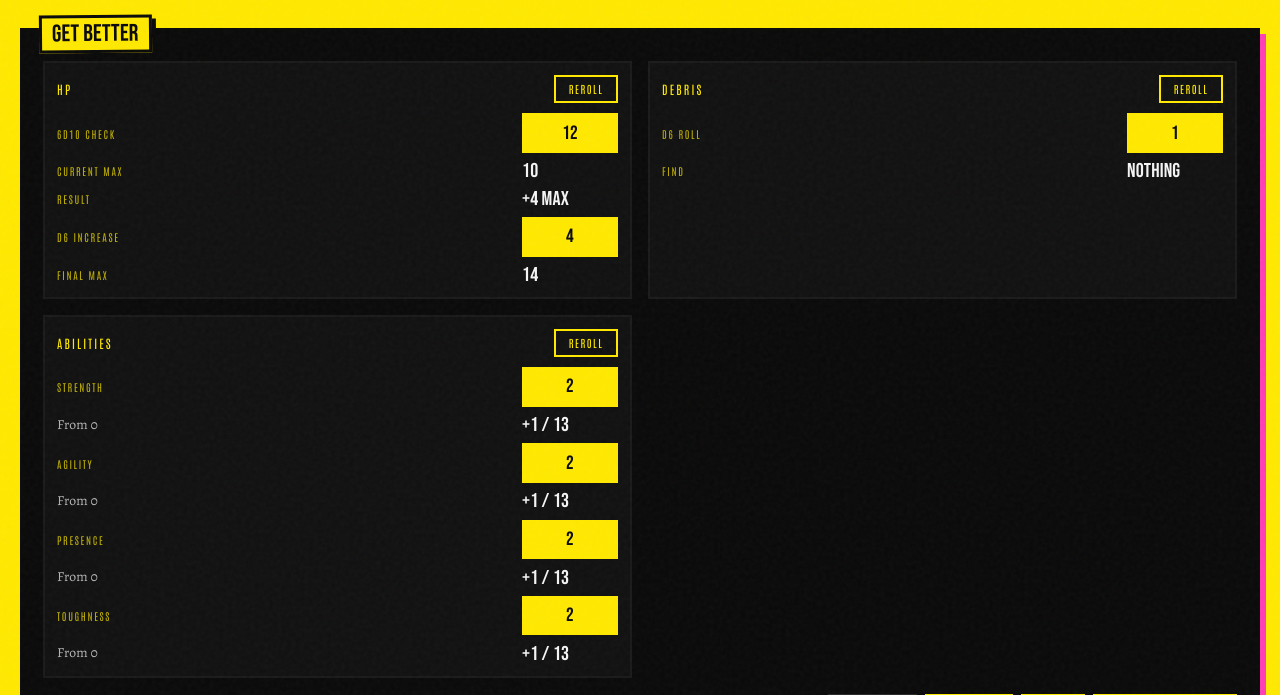
Test case: GettingBetterPanel Browser › lets a table HP value be edited and undone without keeping stale dice
Replace the text in the number field named "6d10 check" with "9": x=570, y=133 [522, 114, 618, 153]
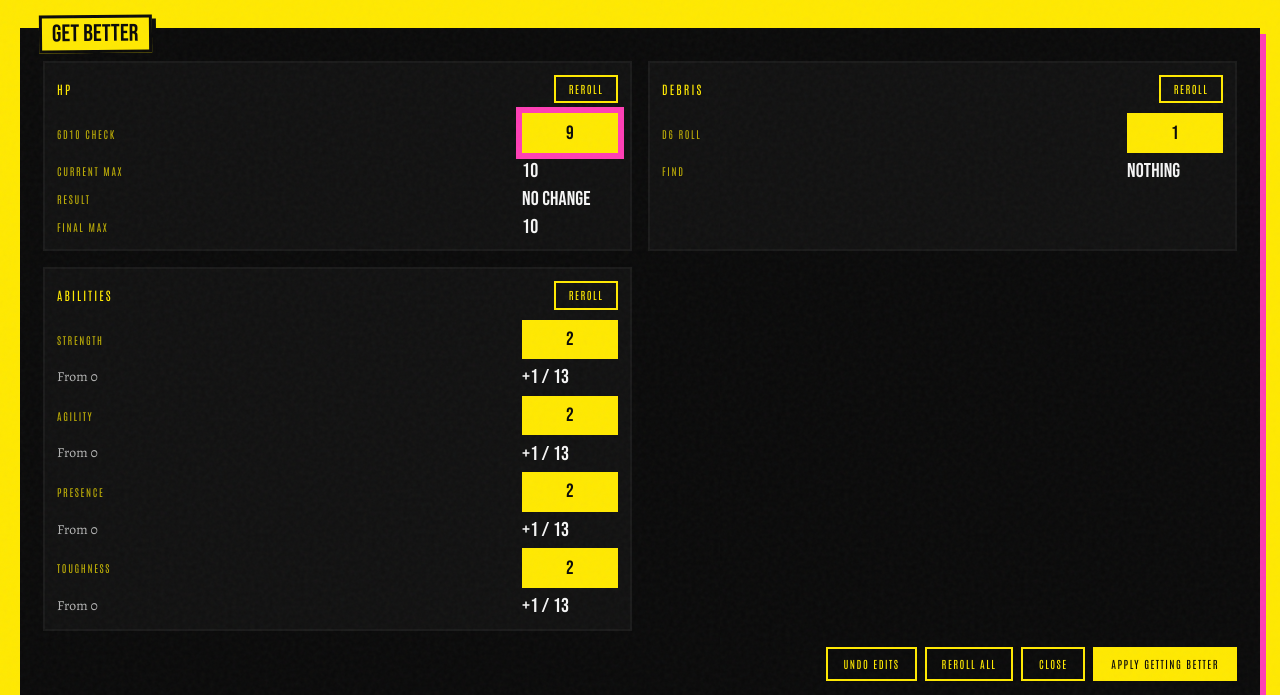
expect the text "No change" is shown: met, box [522, 187, 591, 211]
Click the button "Undo edits": x=872, y=664 [826, 646, 917, 681]
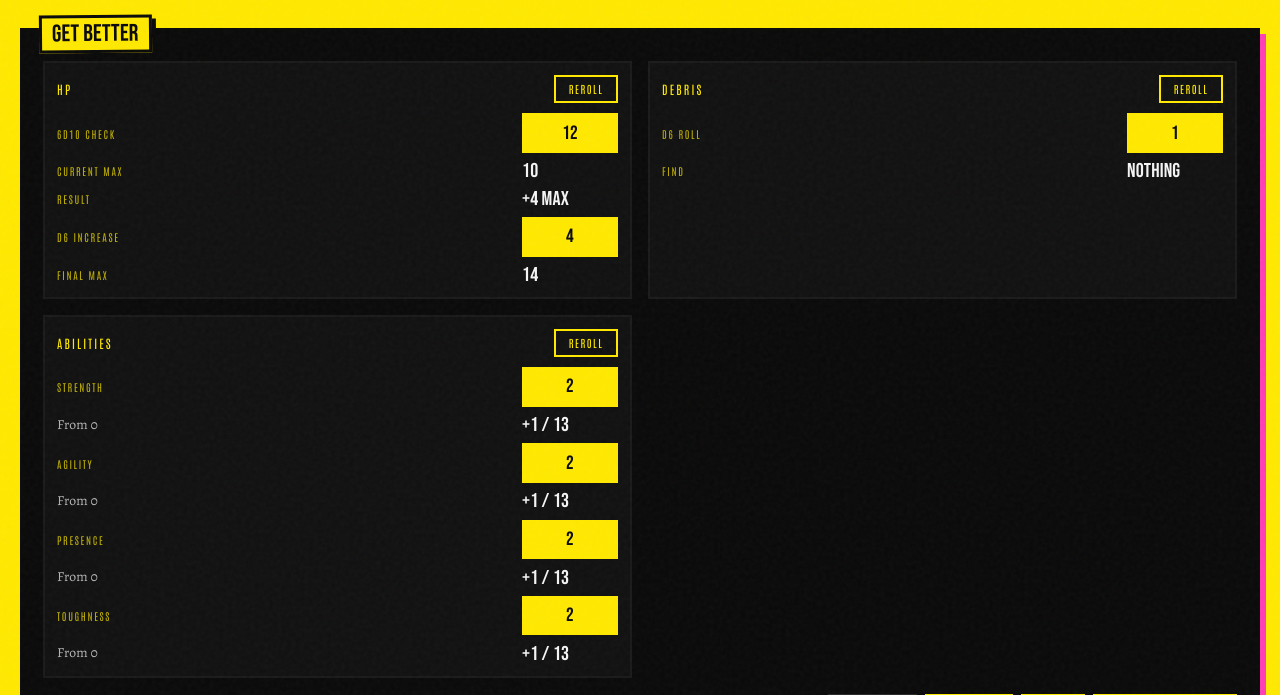
expect the number field named "6d10 check" holds "12": met, box [522, 114, 618, 153]
